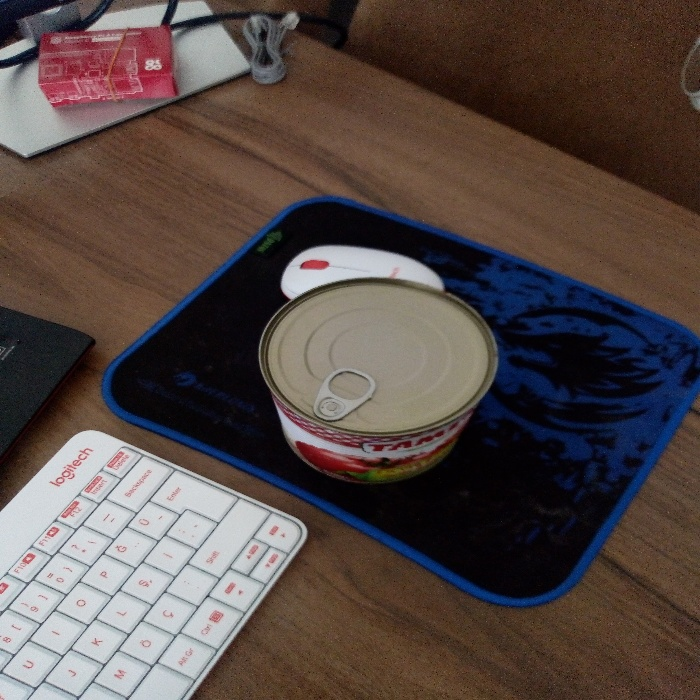salca: (250, 260, 505, 481)
